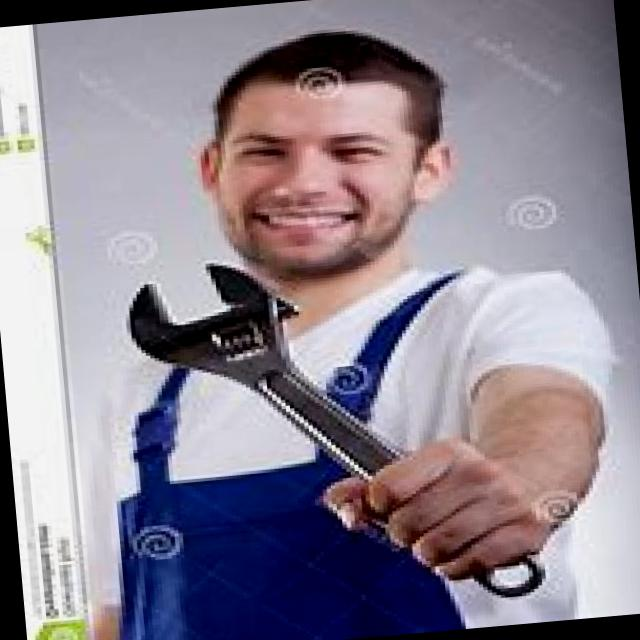wrench: (130, 264, 398, 477), (467, 552, 543, 596)
